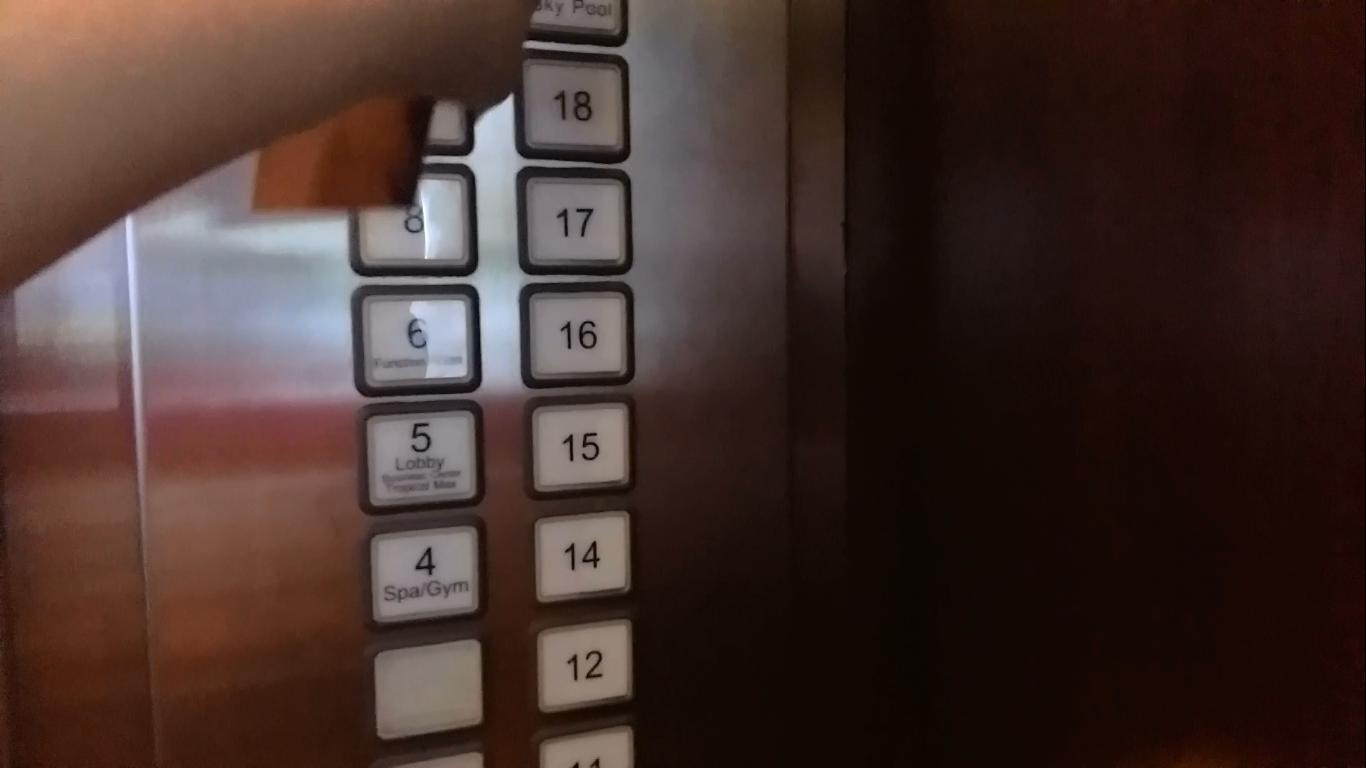12: (535, 617, 636, 714)
14: (532, 507, 633, 605)
15: (521, 393, 636, 502)
16: (517, 280, 635, 389)
17: (515, 164, 633, 277)
18: (513, 45, 631, 163)
4: (361, 516, 489, 629)
5: (355, 399, 487, 516)
6: (351, 284, 483, 398)
8: (346, 163, 479, 278)
empty: (369, 636, 487, 743)
